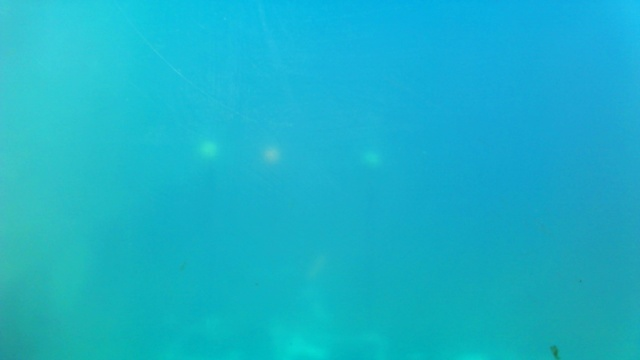buoy_red: (263, 148, 279, 165)
